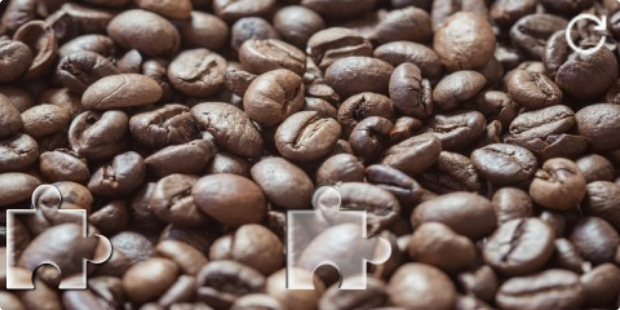target: (287, 186, 391, 290)
